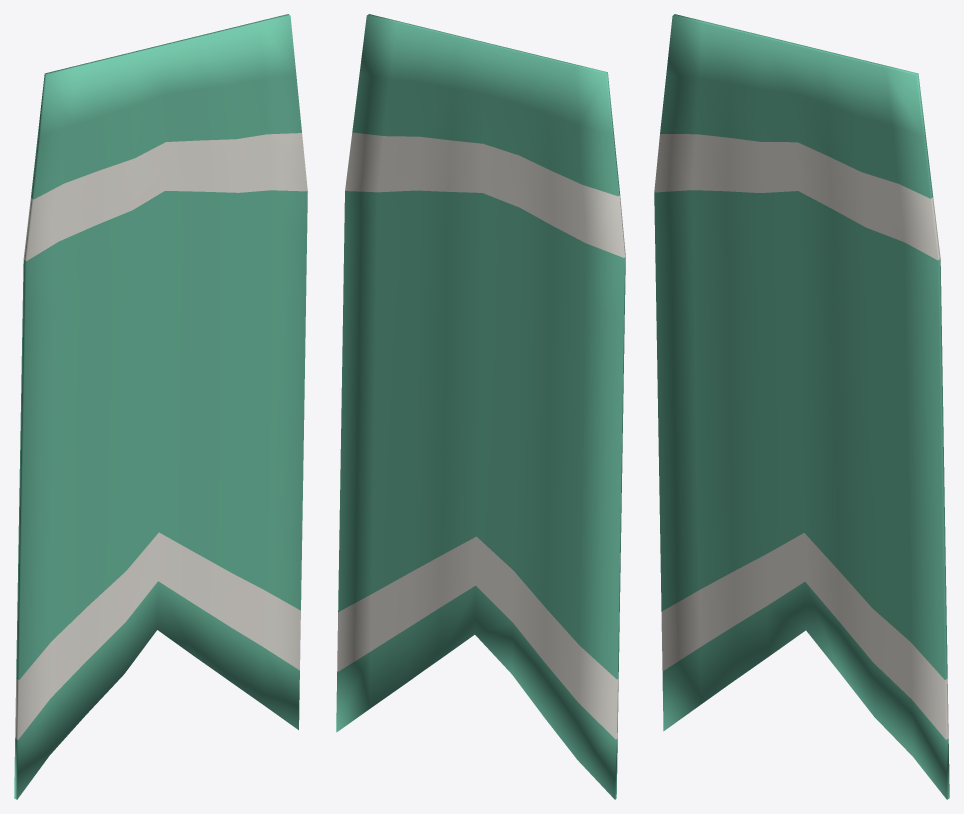
Rendered from banner_teal_d.glb.
3 renders of one model, left to right at view 1: azimuth 30°, elevation 25°; view 2: azimuth 150°, elevation 25°; view 3: azimuth 330°, elevation 25°, orthographic. The views are drawn at different scales.
Visible parts, largest first — view 1: banner_teal_d; view 2: banner_teal_d; view 3: banner_teal_d.
Boxes of the visible parts, x1,y1,x2,y2 form: banner_teal_d: (14,14,307,799); banner_teal_d: (336,14,625,799); banner_teal_d: (654,14,949,799).
Size of the model in its own units: 1.1 by 2.7 by 0.1047.
